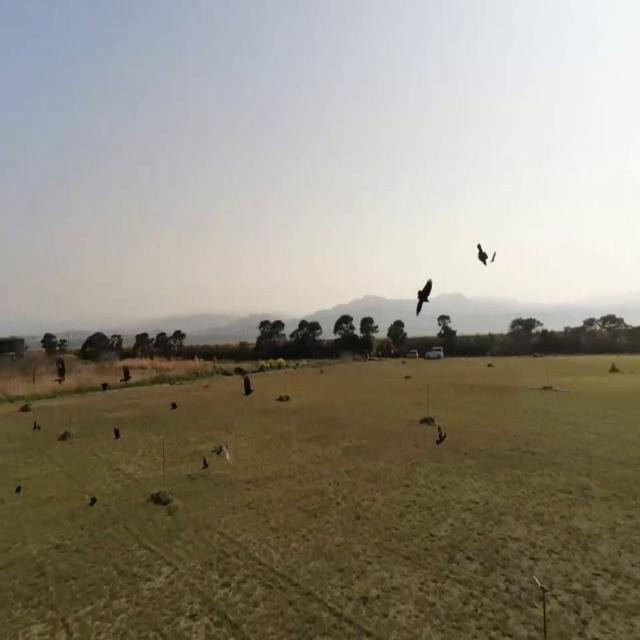bird: (416, 269, 432, 320), (477, 236, 494, 273), (436, 417, 448, 451)
